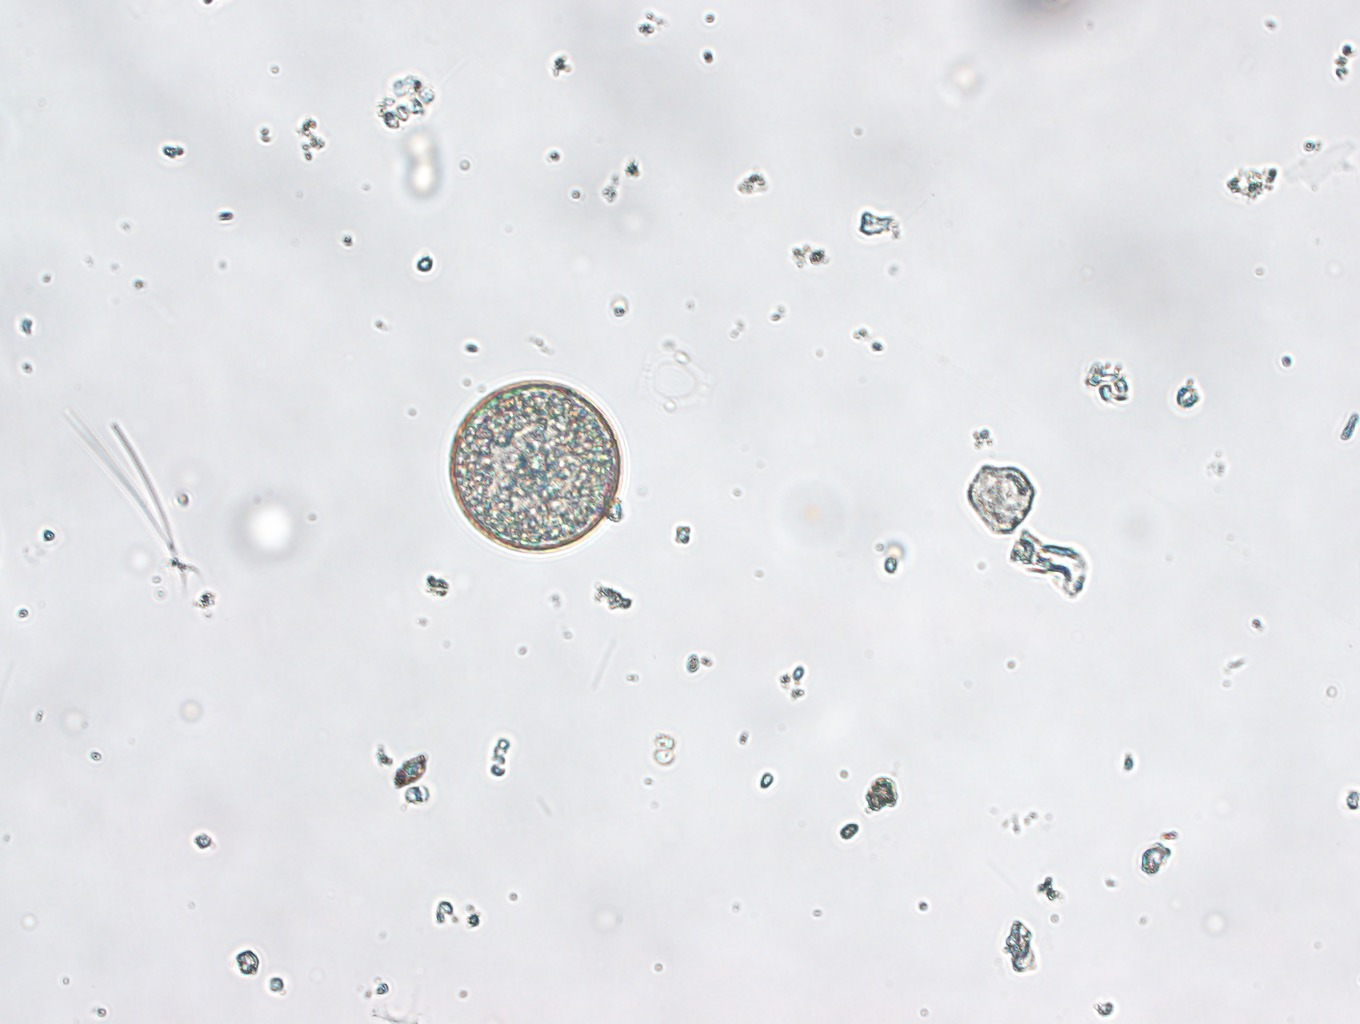coscinodiscus: (447, 380, 622, 551)
